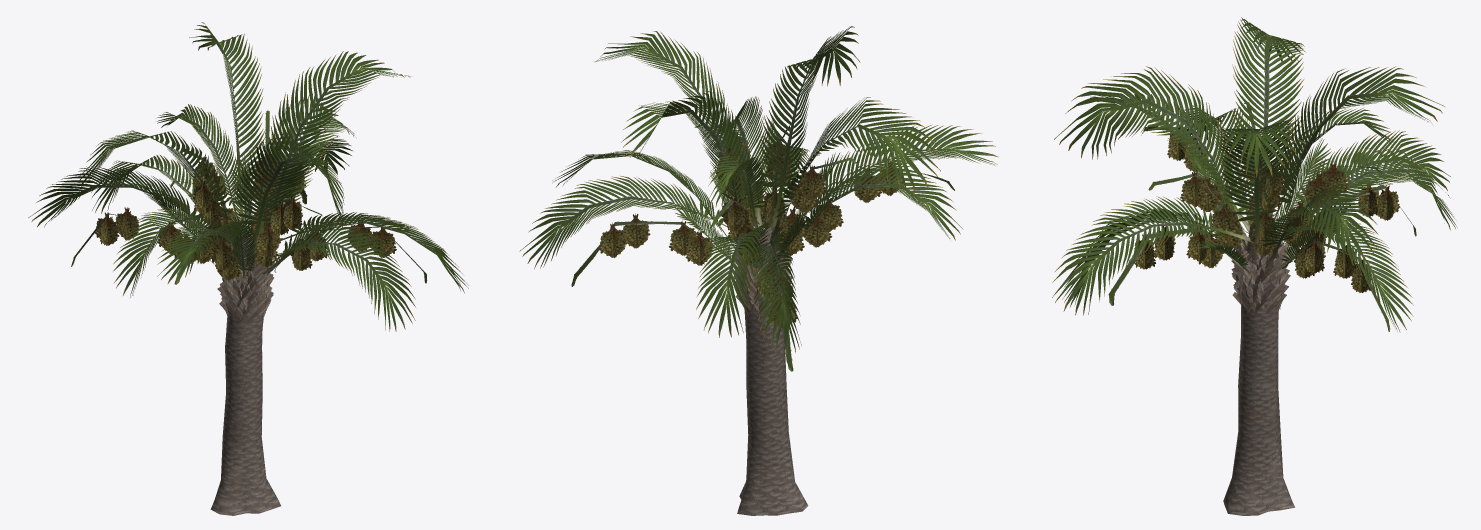
The model's file is Phoenix_Dactylifera_Spring_Young.glb.
3 views of the same model, side by side, from view 1: azimuth 30°, elevation 25°; view 2: azimuth 150°, elevation 25°; view 3: azimuth 270°, elevation 25° (orthographic). The views are drawn at different scales.
Parts seen in each view (by area): view 1: Phoenix_Dactylifera_Spring_Young__LOD3; view 2: Phoenix_Dactylifera_Spring_Young__LOD3; view 3: Phoenix_Dactylifera_Spring_Young__LOD3.
Part boxes in pixels (x1,y1,x2,y2): Phoenix_Dactylifera_Spring_Young__LOD3: (28,22,468,515); Phoenix_Dactylifera_Spring_Young__LOD3: (519,26,998,515); Phoenix_Dactylifera_Spring_Young__LOD3: (1052,17,1457,515).
Size of the model in its own units: 8.14 by 9.42 by 8.1.
3 materials, 3 textured.
